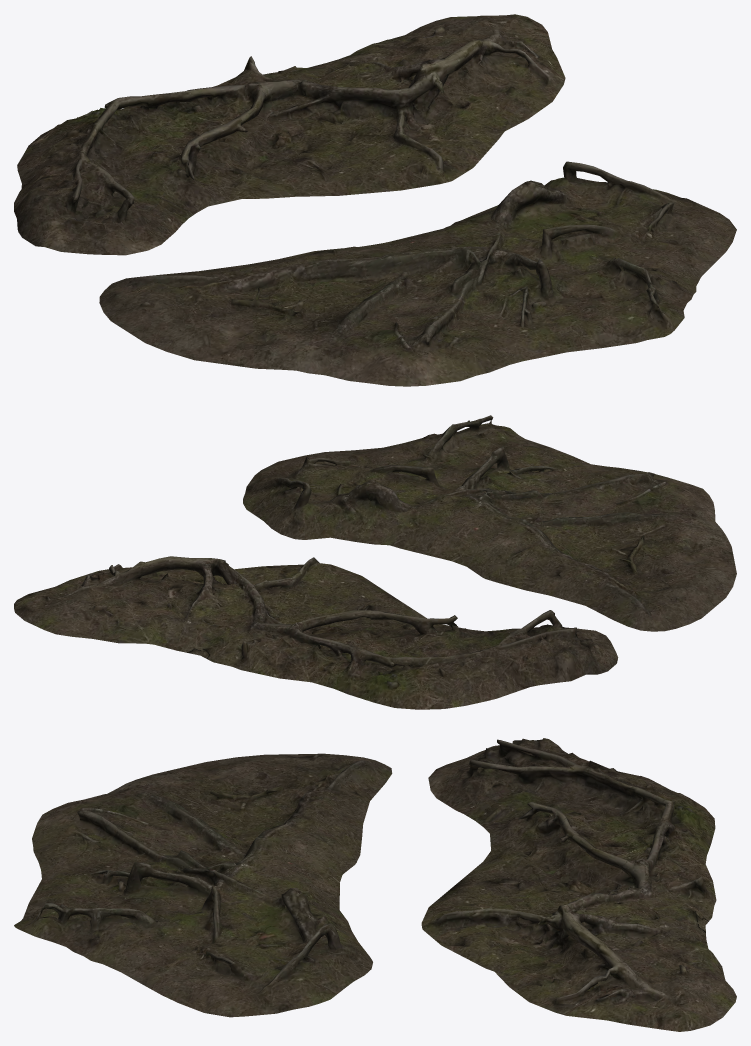
File: pine_roots.glb
3 renders of one model, top to bottom at view 1: azimuth 30°, elevation 25°; view 2: azimuth 150°, elevation 25°; view 3: azimuth 270°, elevation 25°, orthographic. The views are drawn at different scales.
Parts seen in each view (by area): view 1: pine_roots_b, pine_roots_a; view 2: pine_roots_b, pine_roots_a; view 3: pine_roots_b, pine_roots_a.
Boxes of the visible parts, x1,y1,x2,y2 form: pine_roots_b: (99, 161, 736, 386); pine_roots_a: (14, 14, 565, 255); pine_roots_b: (243, 415, 736, 631); pine_roots_a: (14, 556, 618, 709); pine_roots_b: (14, 753, 392, 1017); pine_roots_a: (421, 738, 736, 1031).
Size of the model in its own units: 1.77 by 0.1542 by 1.89.
2 materials, 2 textured.
